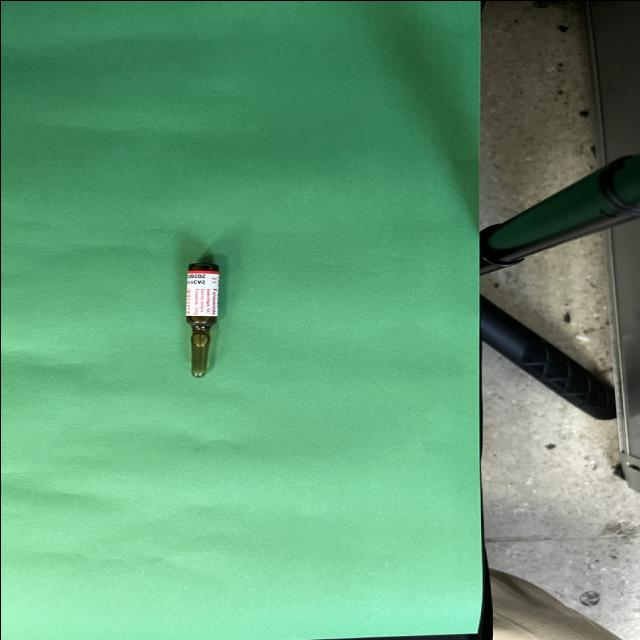Ampoules: (185, 262, 219, 377)
